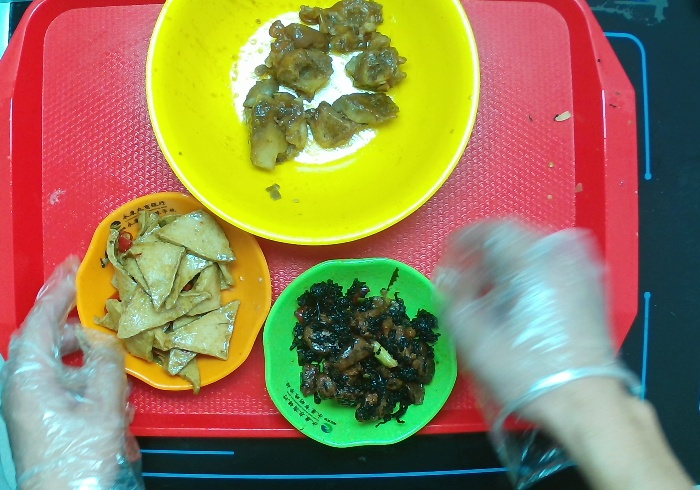YKMZ-Huang_Se_Tang_Wan: (144, 1, 481, 248)
YKMZ-Ju_Se_Ao_Bian_Wan: (74, 190, 276, 394)
YKMZ-Lv_Se_Ao_Bian_Wan: (261, 255, 457, 453)
